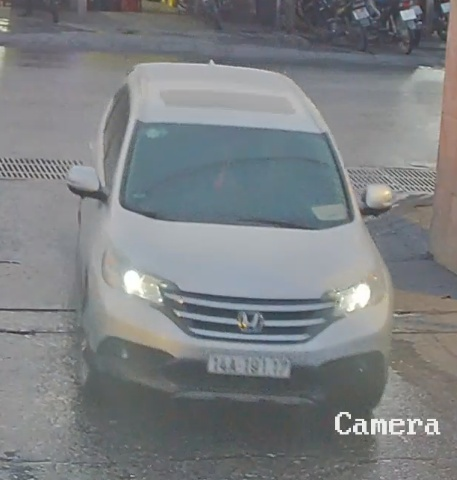vehicle plate: (201, 345, 292, 381)
